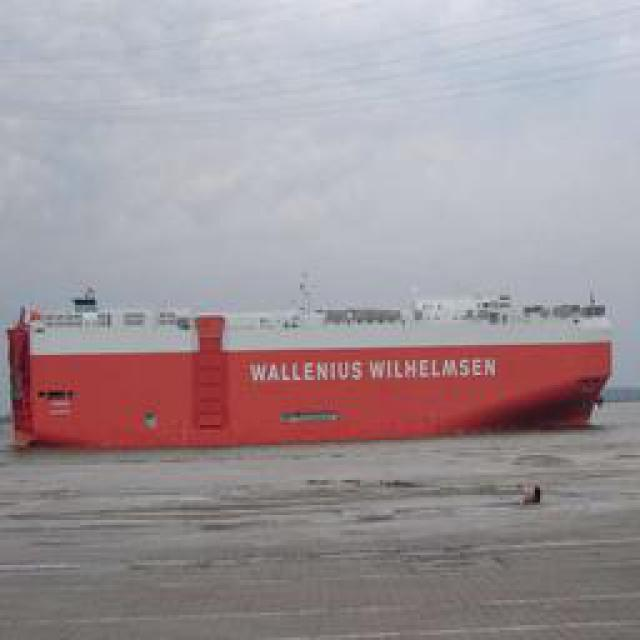Ship: (3, 280, 631, 460)
